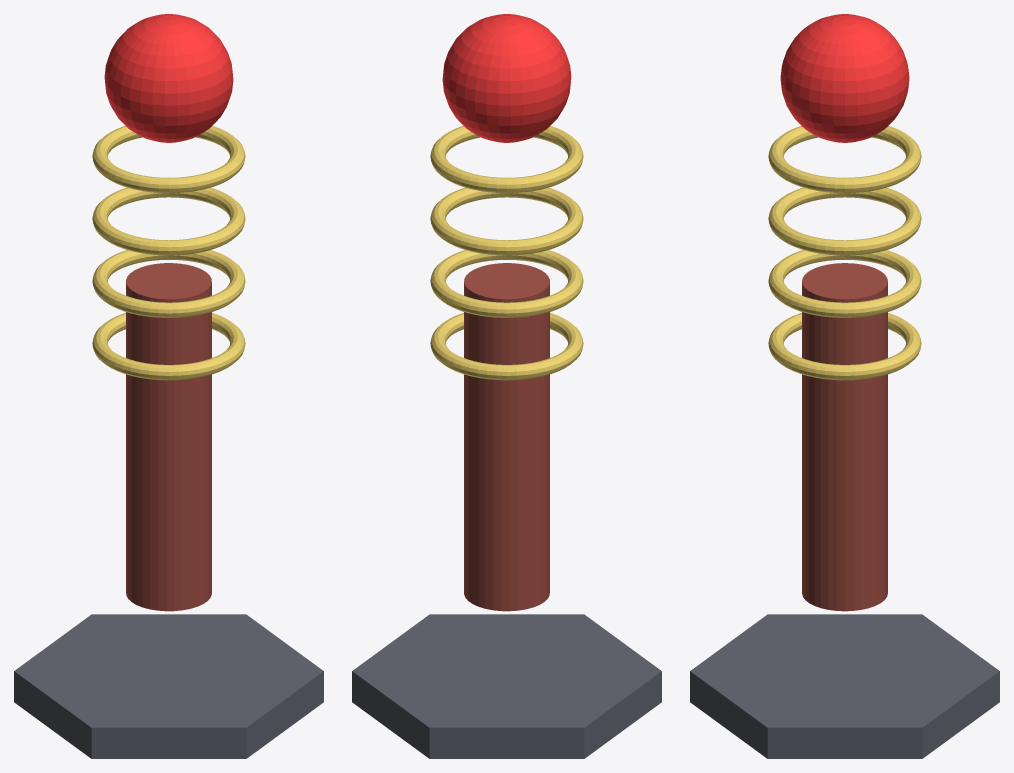
File: SU_TeslaTower.fbx
3 views of the same model, side by side, from view 1: azimuth 30°, elevation 25°; view 2: azimuth 150°, elevation 25°; view 3: azimuth 270°, elevation 25° (orthographic).
Visible parts, largest first — view 1: Cylinder, Cylinder.001, Sphere, Torus.002, Torus.001, Torus.003, Torus; view 2: Cylinder, Cylinder.001, Sphere, Torus.002, Torus.001, Torus.003, Torus; view 3: Cylinder, Cylinder.001, Sphere, Torus.002, Torus.001, Torus.003, Torus.
Boxes of the visible parts, x1,y1,x2,y2 form: Cylinder: (14, 614, 323, 758); Cylinder.001: (126, 263, 211, 611); Sphere: (104, 14, 233, 142); Torus.002: (92, 187, 245, 255); Torus.001: (92, 250, 245, 317); Torus.003: (92, 126, 245, 193); Torus: (92, 313, 245, 380); Cylinder: (352, 614, 661, 758); Cylinder.001: (464, 263, 549, 611); Sphere: (442, 14, 571, 142); Torus.002: (430, 187, 583, 255); Torus.001: (430, 250, 583, 317); Torus.003: (430, 126, 583, 193); Torus: (430, 313, 583, 380); Cylinder: (690, 614, 999, 758); Cylinder.001: (802, 263, 887, 611); Sphere: (780, 14, 909, 142); Torus.002: (768, 187, 921, 255); Torus.001: (768, 250, 921, 317); Torus.003: (768, 126, 921, 193); Torus: (768, 313, 921, 380).
Size of the model in its own units: 312 by 875 by 360.
